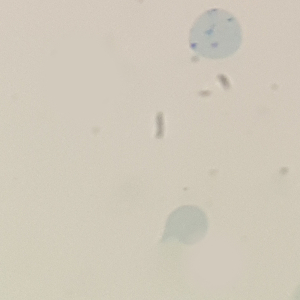aggregate reticulocyte: (187, 6, 244, 62)
erythrocyte: (159, 203, 211, 248)
